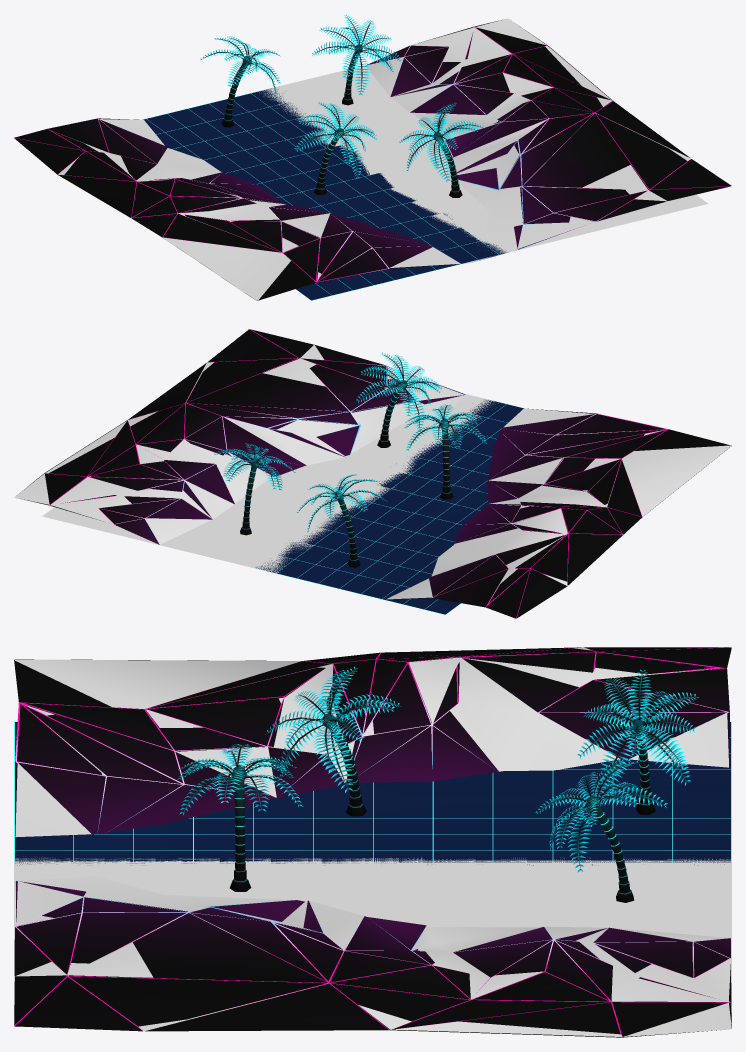
File: Terrain_Palm_end.fbx
3 renders of one model, top to bottom at view 1: azimuth 30°, elevation 25°; view 2: azimuth 150°, elevation 25°; view 3: azimuth 270°, elevation 25°, orthographic. The views are drawn at different scales.
Parts seen in each view (by area): view 1: Terrain_Palm_end, Terrain_Palm_end_Colider; view 2: Terrain_Palm_end, Terrain_Palm_end_Colider; view 3: Terrain_Palm_end, Terrain_Palm_end_Colider.
Part boxes in pixels (x1=…): Terrain_Palm_end: x1=14, y1=14, x2=731, y2=300; Terrain_Palm_end_Colider: x1=58, y1=18, x2=708, y2=300; Terrain_Palm_end: x1=21, y1=329, x2=731, y2=618; Terrain_Palm_end_Colider: x1=14, y1=345, x2=730, y2=600; Terrain_Palm_end: x1=14, y1=647, x2=731, y2=1037; Terrain_Palm_end_Colider: x1=14, y1=647, x2=731, y2=1036.
Size of the model in its own units: 5861 by 1093 by 4601.
Materials: 2 (2 with a texture image).
